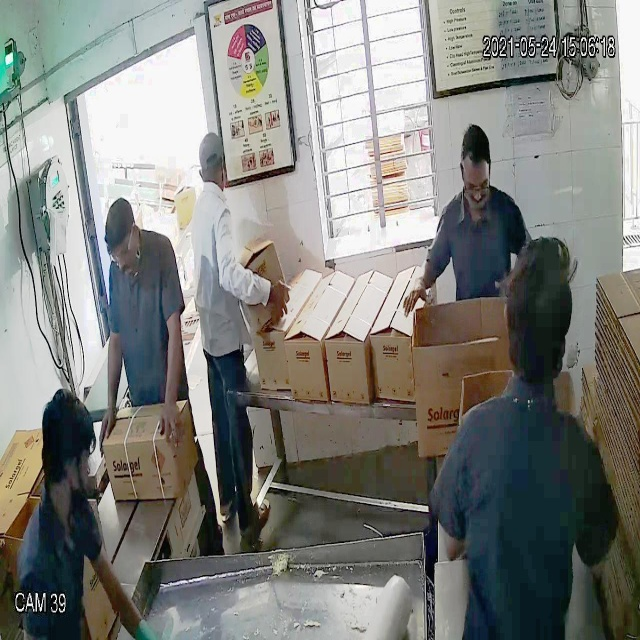Gafas: (457, 156, 497, 196)
